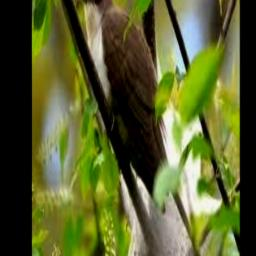Cuckoo: (75, 0, 210, 256)
